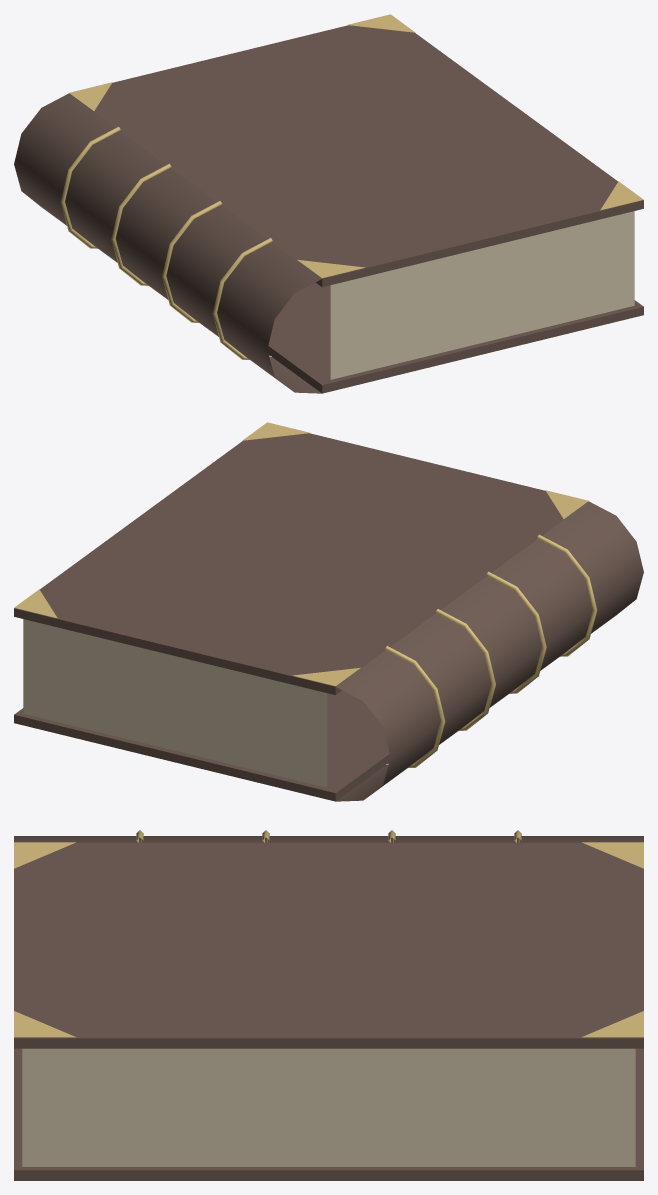
The model's file is TomeSmall.fbx.
3 renders of one model, top to bottom at view 1: azimuth 30°, elevation 25°; view 2: azimuth 150°, elevation 25°; view 3: azimuth 270°, elevation 25°, orthographic. The views are drawn at different scales.
Parts seen in each view (by area): view 1: TomeSmall; view 2: TomeSmall; view 3: TomeSmall.
Part boxes in pixels (bbox=[...]): TomeSmall: bbox=[14, 14, 643, 393]; TomeSmall: bbox=[14, 422, 643, 801]; TomeSmall: bbox=[14, 830, 643, 1180].
Size of the model in its own units: 0.1874 by 0.058 by 0.216.
